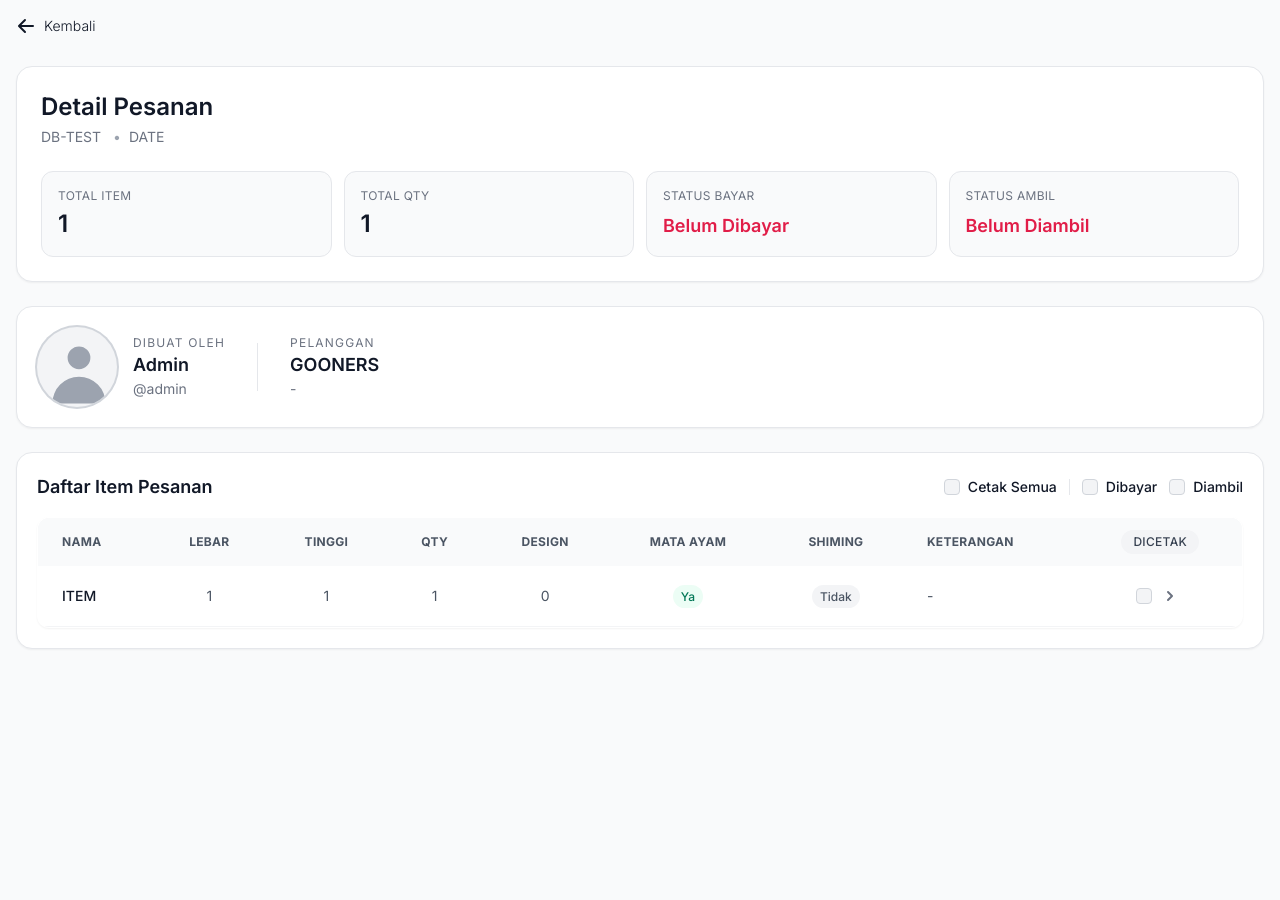
Test: Order detail page actions › opens confirm modal when clicking Cetak Semua
Click the text "Cetak Semua" at (1000, 487), box [944,477,1057,497]
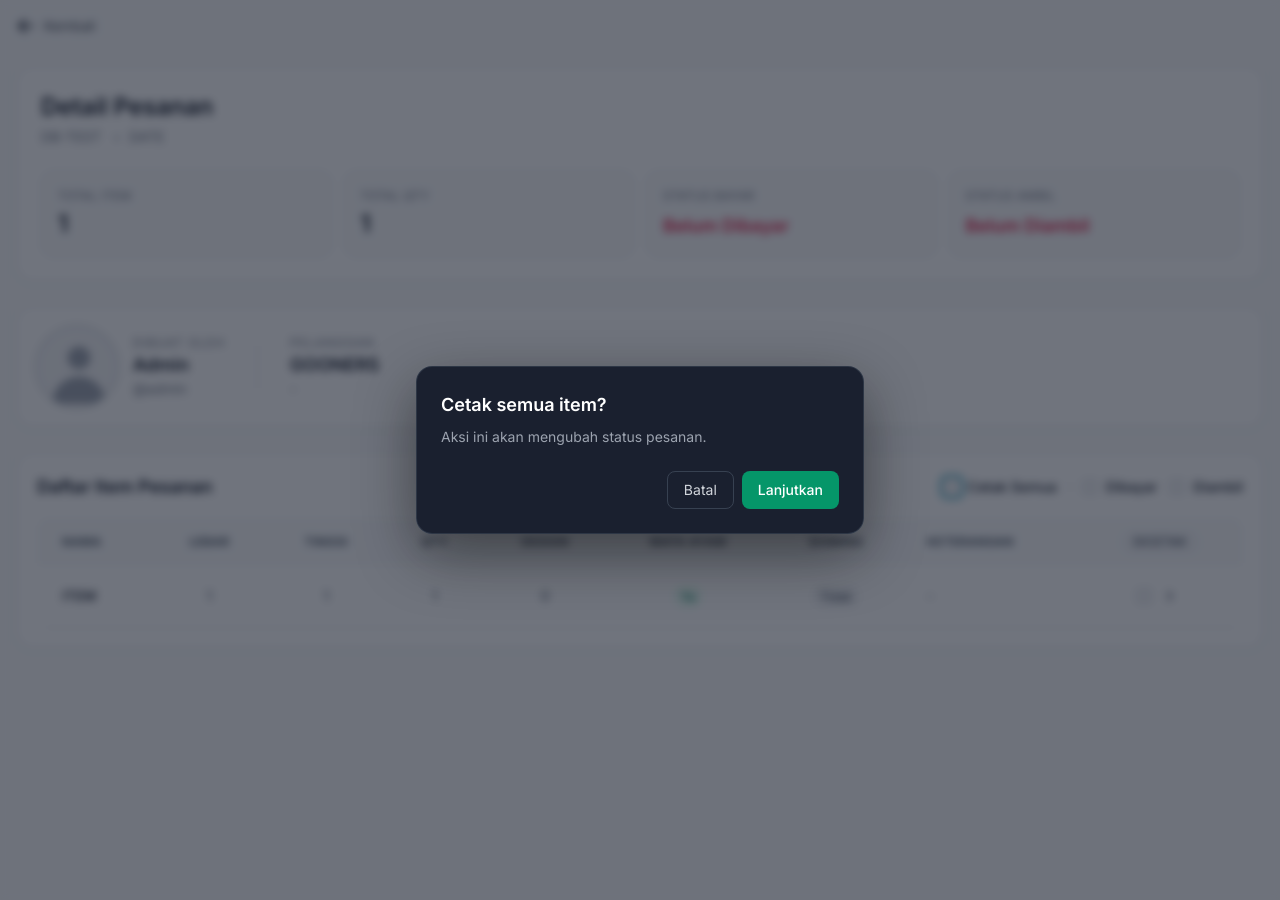
Check: the text "Cetak semua item?" is shown, box [441,394,607,415]
